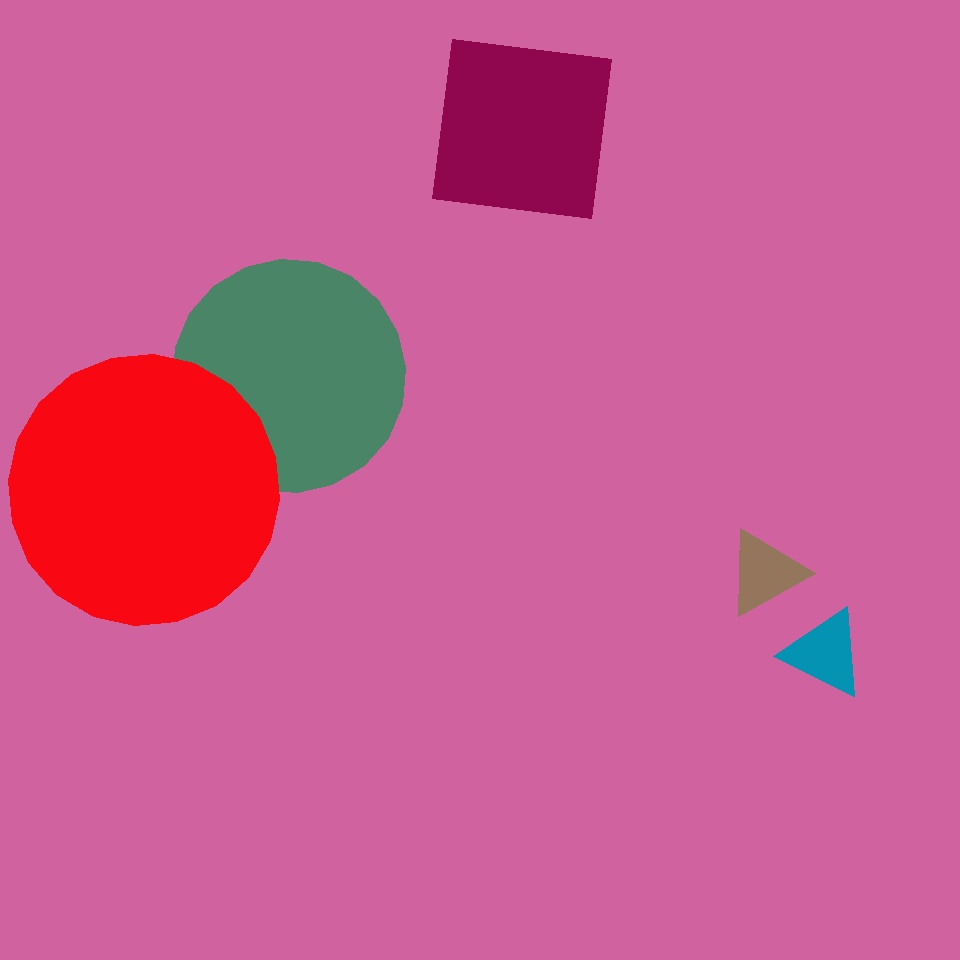circle: (114, 681, 300, 867), (311, 598, 430, 708), (278, 123, 378, 223), (784, 608, 866, 698), (726, 529, 804, 617), (654, 30, 729, 112)
square: (432, 39, 612, 218)
triangle: (8, 354, 280, 625), (172, 260, 406, 493)
